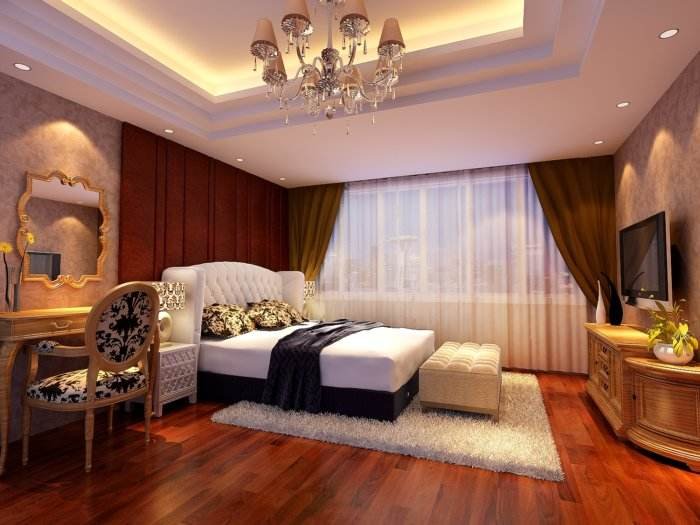床: (200, 313, 445, 414)
枕头: (202, 296, 304, 337)
灯: (245, 7, 414, 125), (17, 116, 94, 191), (656, 28, 684, 44), (615, 97, 633, 112), (10, 62, 32, 74), (588, 137, 607, 150), (162, 127, 179, 138), (235, 156, 250, 167)
